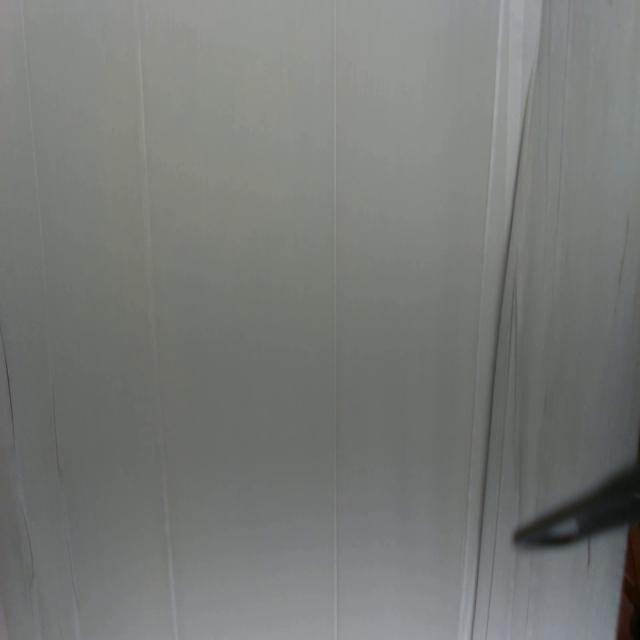crease: (469, 64, 536, 637), (454, 0, 502, 633), (138, 27, 180, 637), (19, 0, 63, 488), (483, 279, 518, 640), (330, 0, 339, 639), (556, 0, 572, 232), (608, 216, 630, 322), (0, 324, 17, 456), (543, 0, 552, 213), (66, 536, 82, 619), (20, 502, 36, 583)
